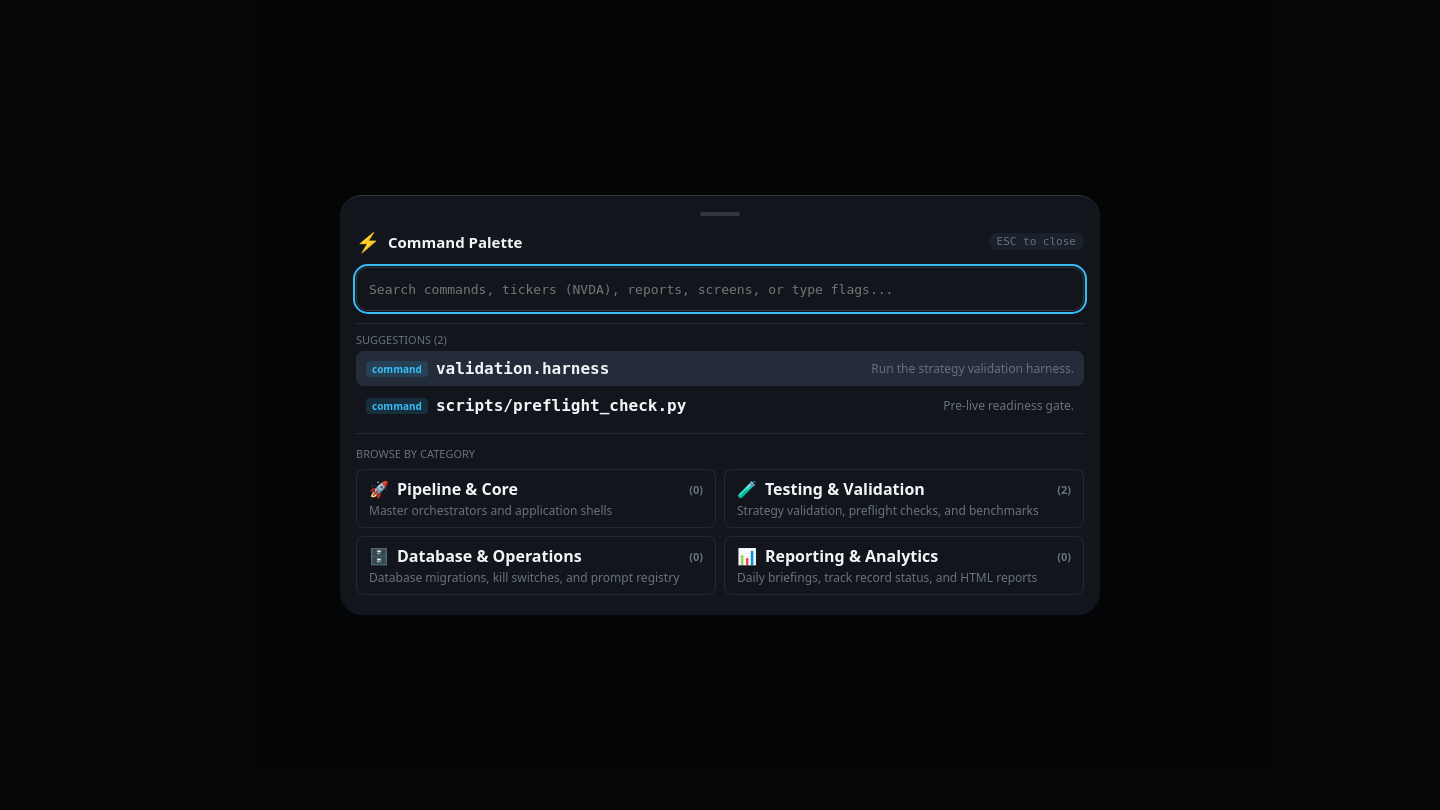
Test: CommandPaletteModal › typing a partial command shows matching suggestions and hides the category browse
Type "harness" into the field with test id "command-palette-input" at (720, 289), box [356,267,1084,311]
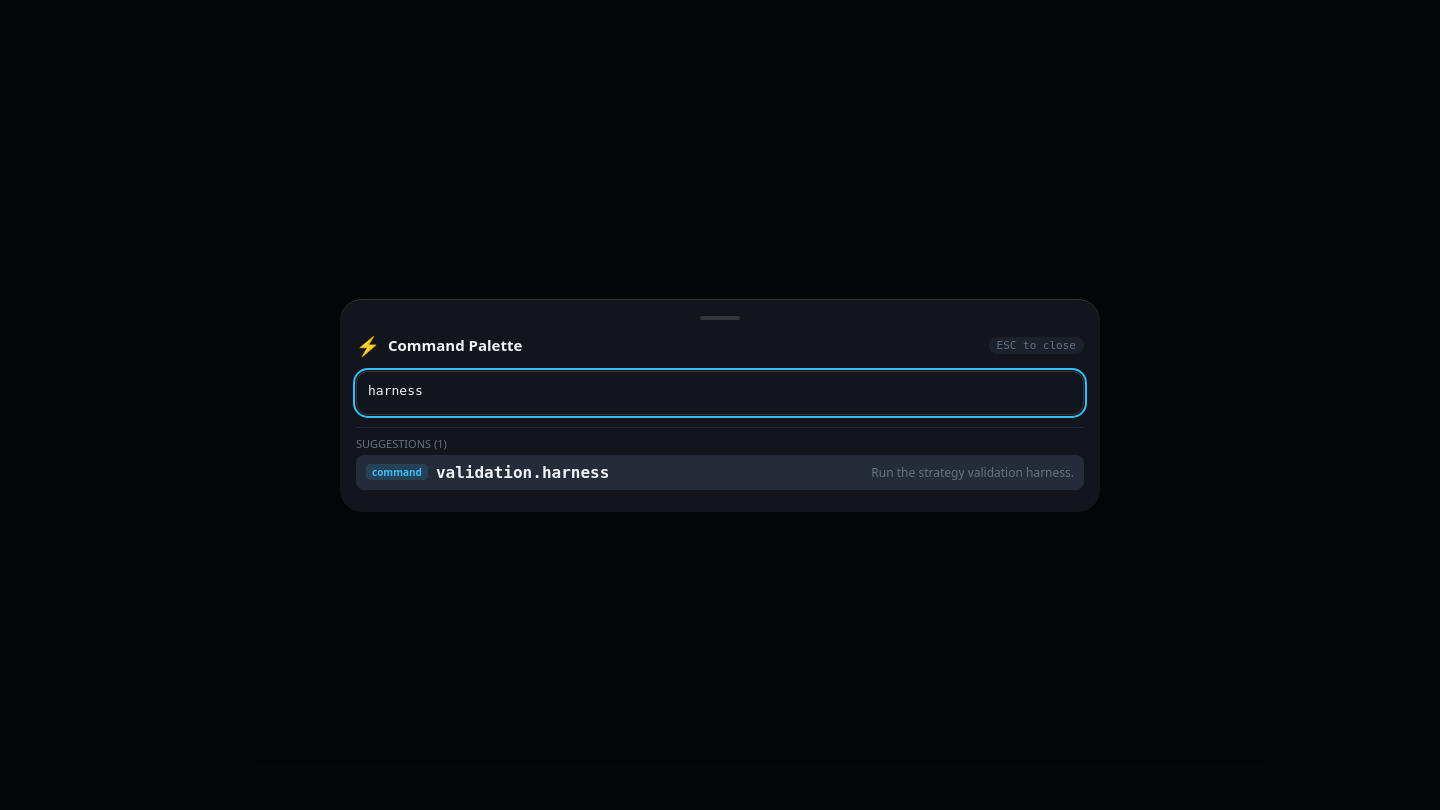
Expected: the text "Suggestions (1)" is shown, [356,436,447,450]
Now the text "Browse by Category" is gone
